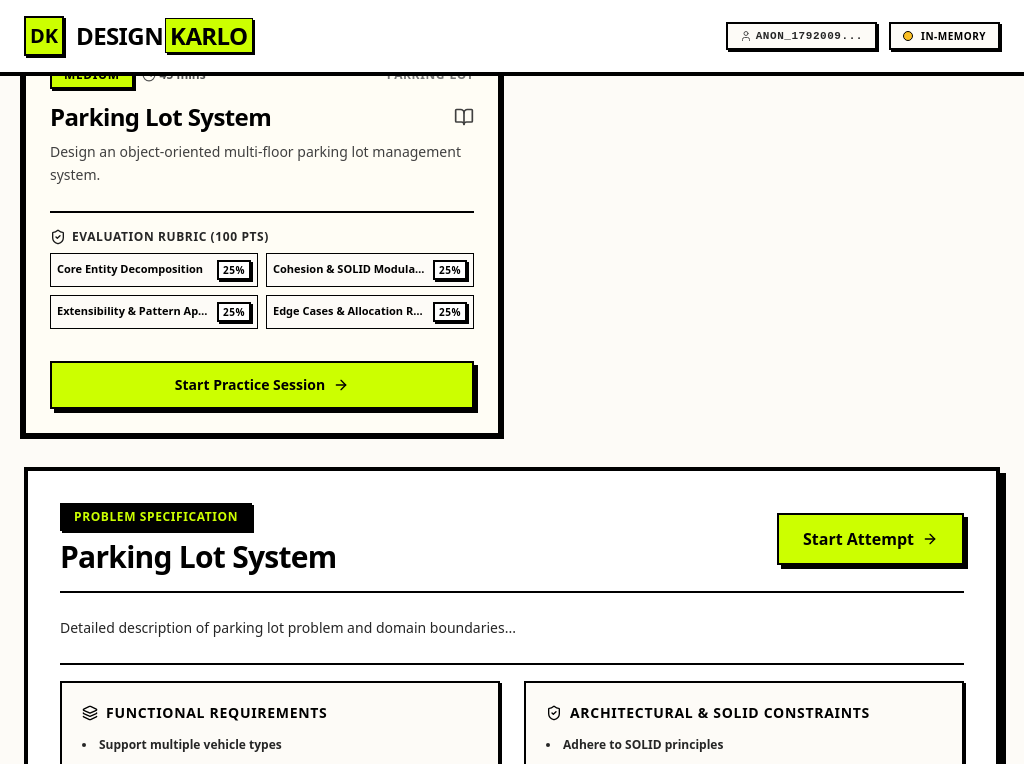
Test case: DesignKarlo Frontend App › 2. "Start Designing" on the briefing screen opens the editor for the selected problem
(page scrolled)
Click the button "Start Practice Session": (262,384) [50,360,474,408]
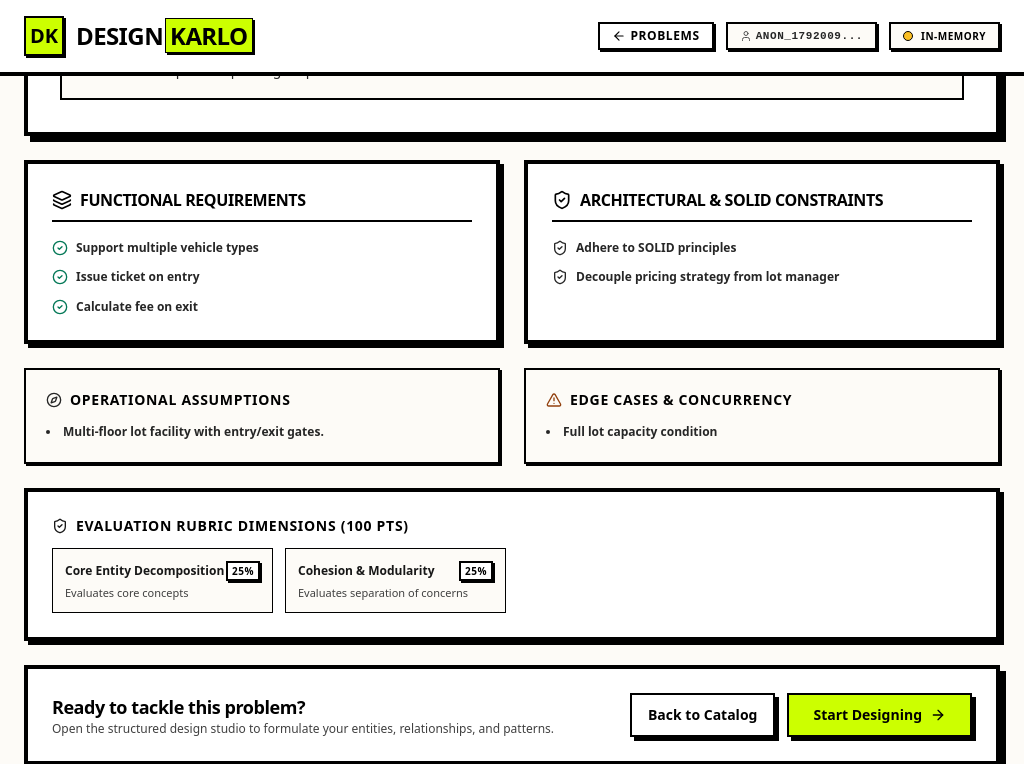
Now the button "Start Designing" is shown
Click the button "Start Designing": (880,715) [787,693,972,737]
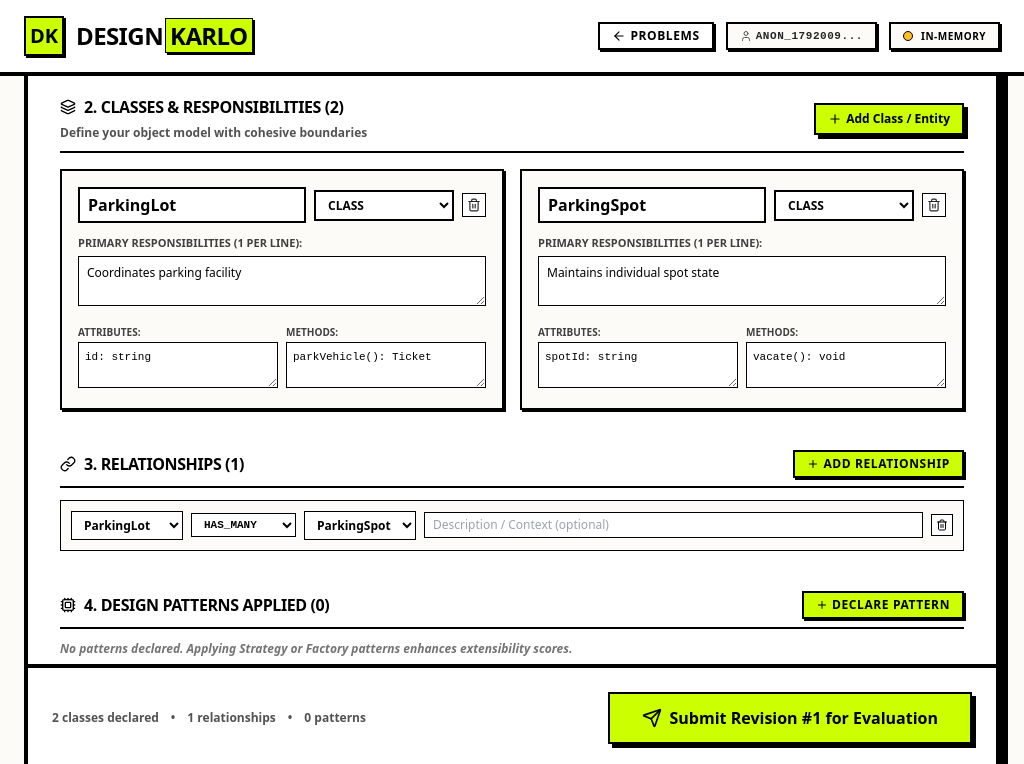
Now the button "Submit Revision #1 for Evaluation" is shown, box [608,692,972,744]
